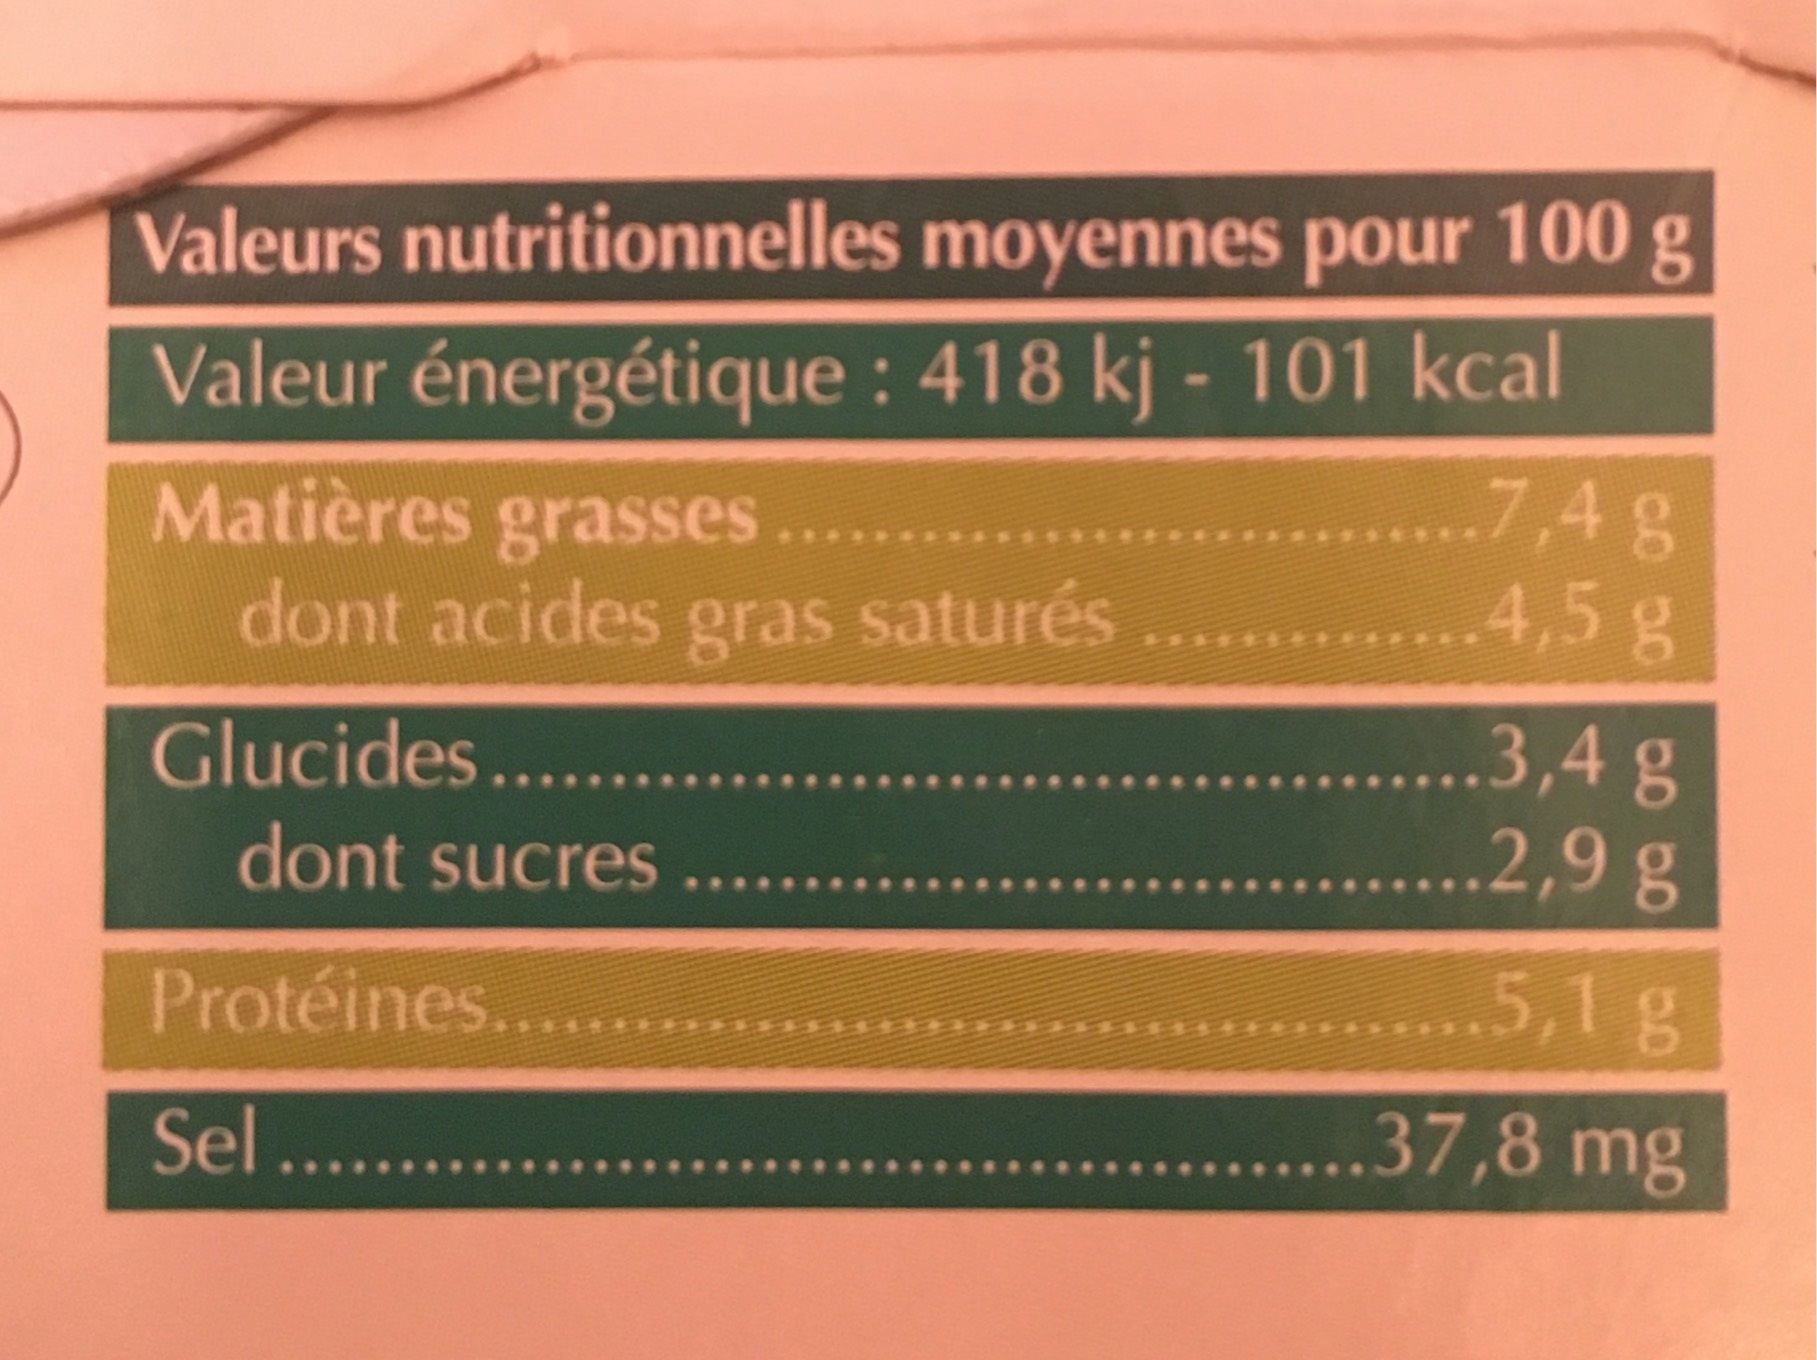column: (146, 461, 1121, 1201), (1366, 466, 1691, 1199)
table: (101, 166, 1734, 1226)
